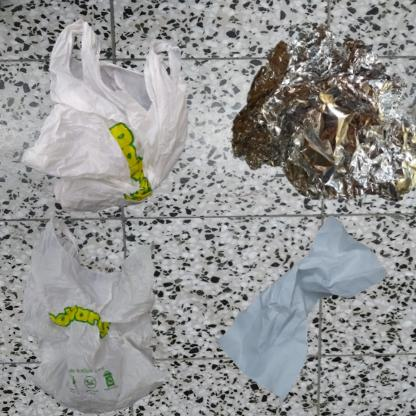aluminio: (213, 10, 416, 232)
bolsa: (10, 10, 227, 256), (10, 213, 189, 416)
papel: (213, 213, 388, 409)
